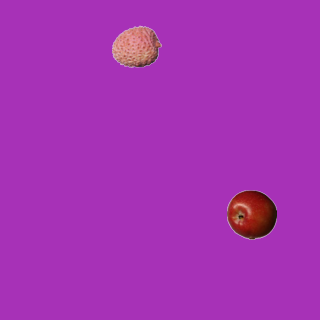Apple Braeburn: (226, 189, 276, 239)
Lychee: (111, 21, 161, 71)
